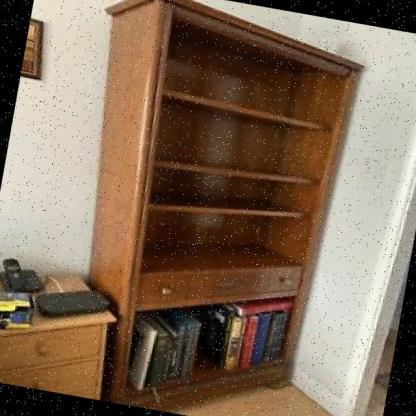Shelf: (37, 0, 382, 416)
